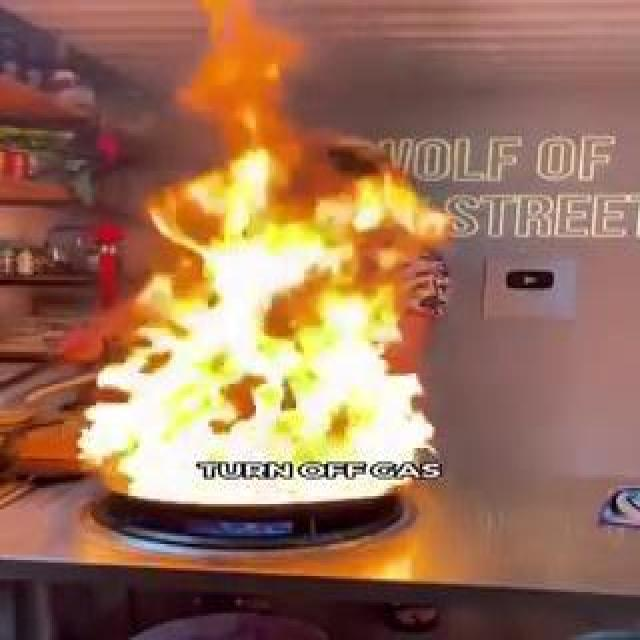Fire: (276, 312, 348, 390)
